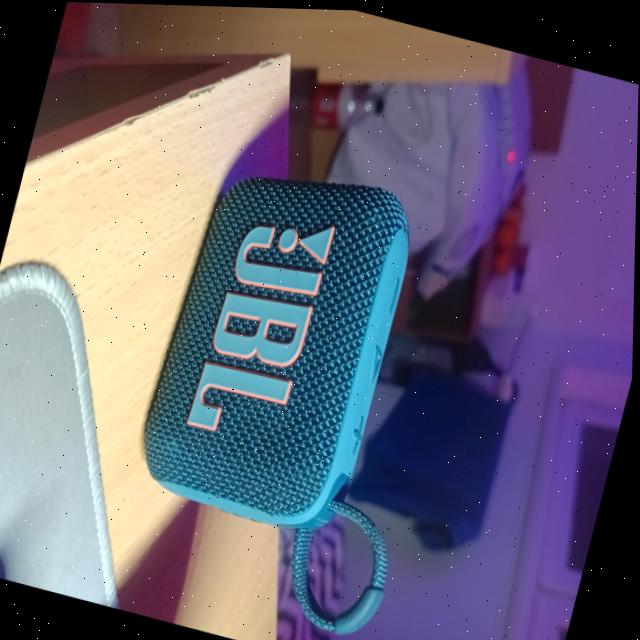column JBL: (103, 127, 485, 640)
